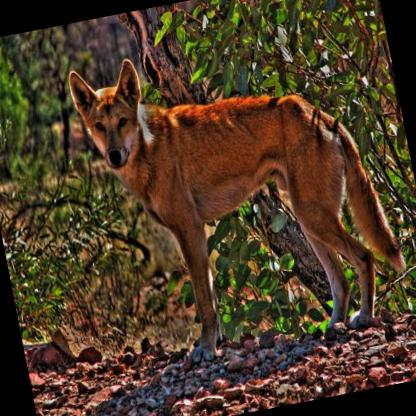dingo: (60, 10, 413, 377)
